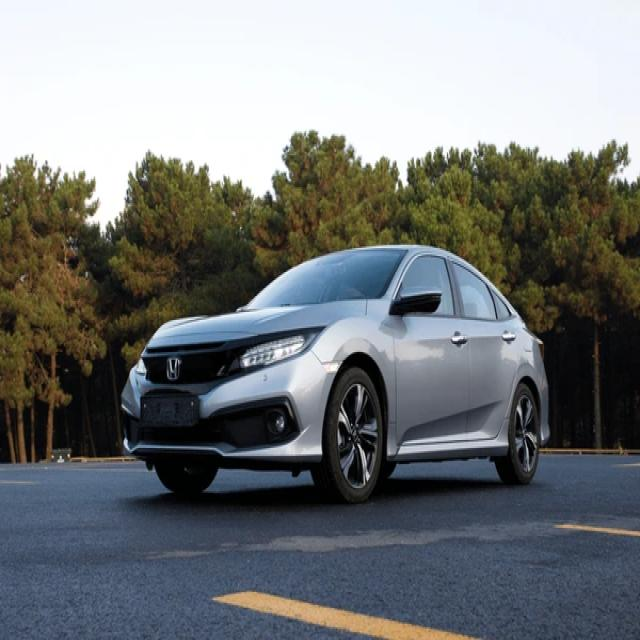honda: (158, 359, 186, 382)
